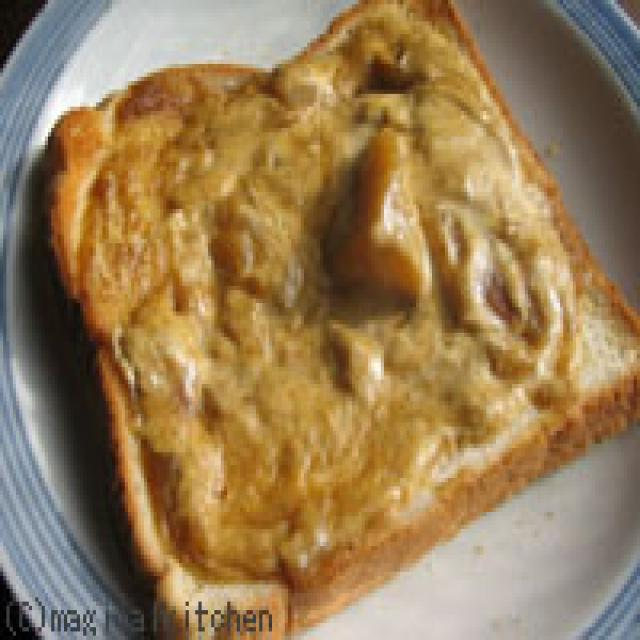面包点心: (13, 34, 640, 546)
